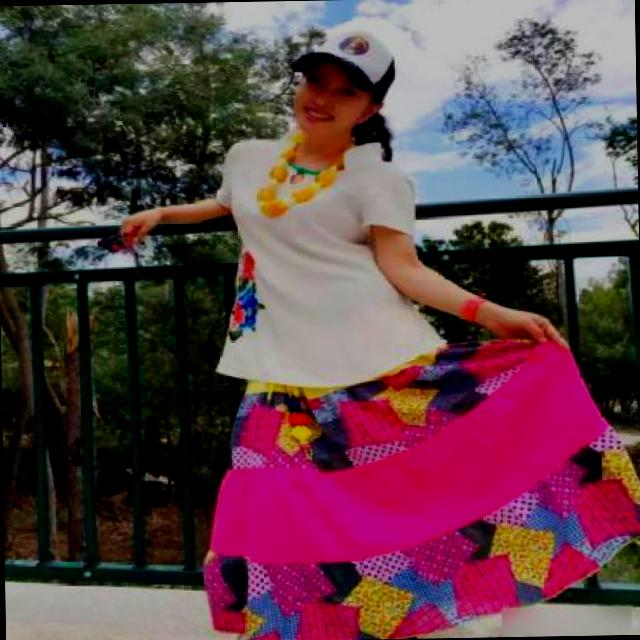Person: (175, 17, 520, 640)
